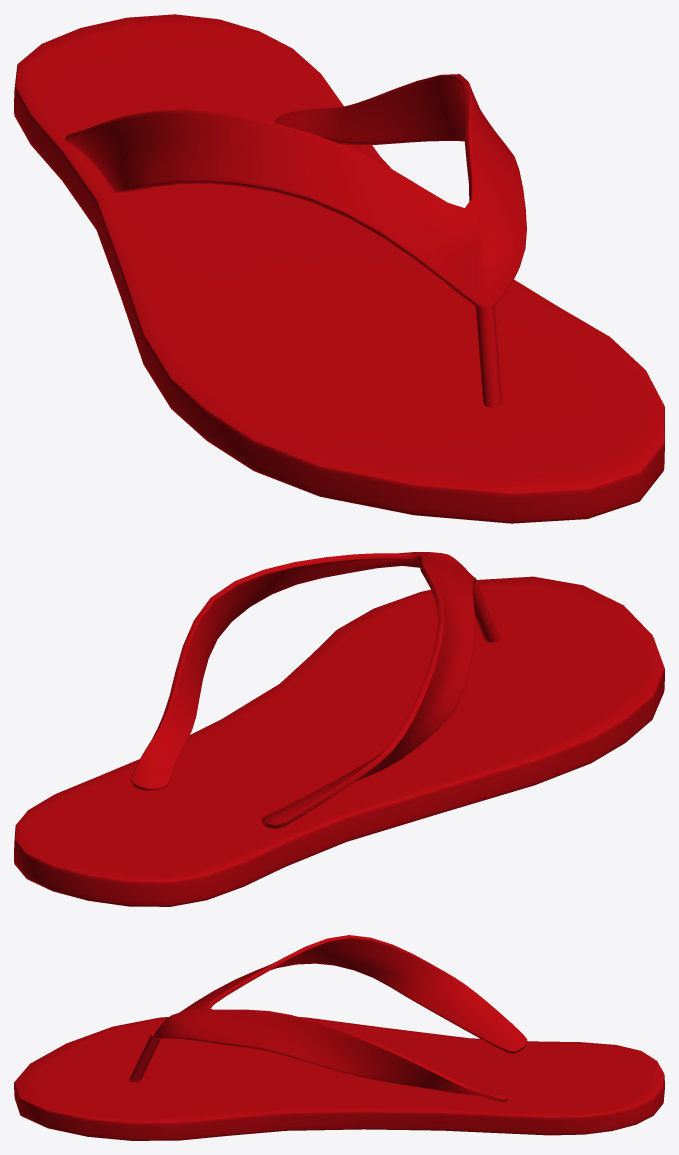
Rendered from slipper.fbx.
3 views of the same model, one above another, from view 1: azimuth 30°, elevation 25°; view 2: azimuth 150°, elevation 25°; view 3: azimuth 270°, elevation 25° (orthographic). The views are drawn at different scales.
Visible parts, largest first — view 1: SLIPPER; view 2: SLIPPER; view 3: SLIPPER.
Boxes of the visible parts, x1,y1,x2,y2 form: SLIPPER: (14,14,664,523); SLIPPER: (14,552,664,906); SLIPPER: (14,935,664,1140).
Size of the model in its own units: 33.6 by 18.08 by 79.03.
